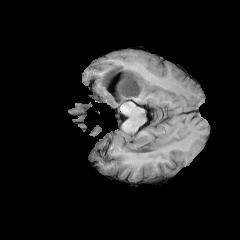glioma: (97, 65, 146, 104)
